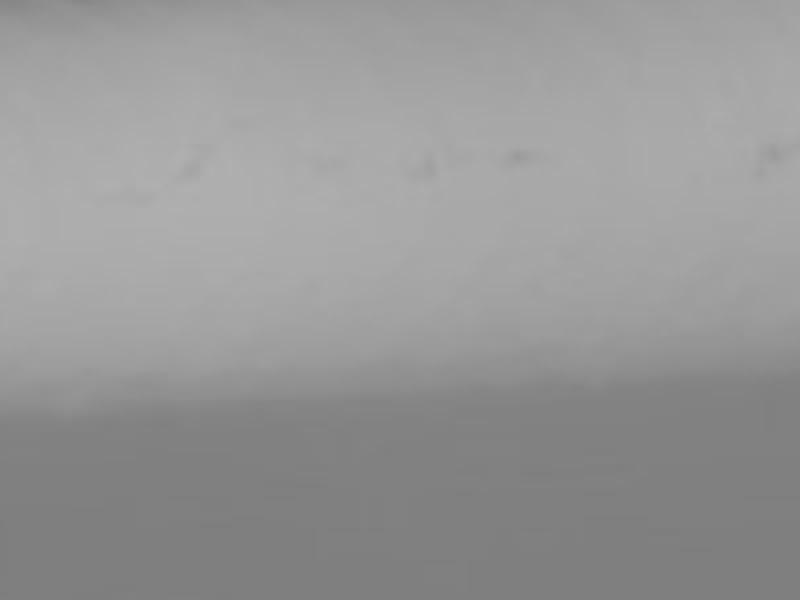defect: (181, 156, 211, 183), (414, 163, 437, 186), (508, 147, 533, 167), (760, 142, 784, 159)
